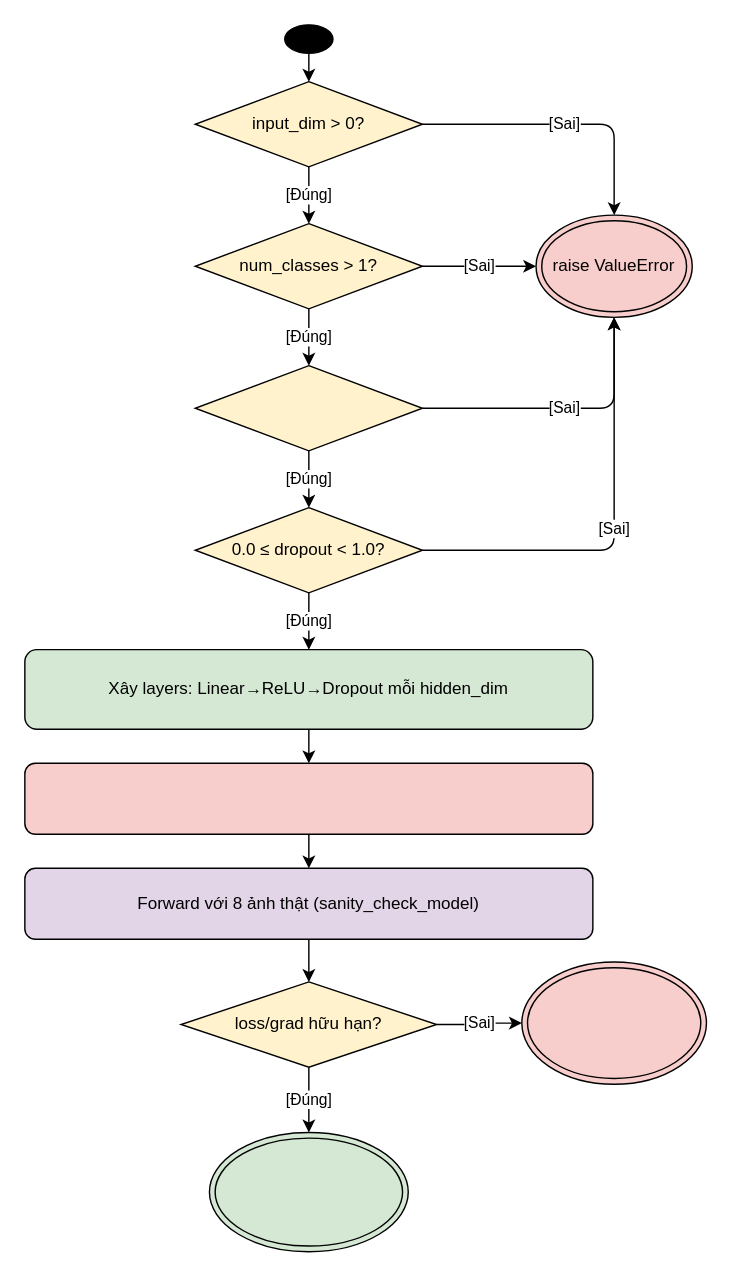
This 731x1277 diagram has some shape labels left out. Each missing label, with the centre of its shape:
Model sẵn sàng cho Phase 7: point 308,1191
mọi hidden_dim > 0?: point 308,407
Output: Linear → 10 logits (no Softmax): point 308,798
raise AssertionError: point 613,1022
